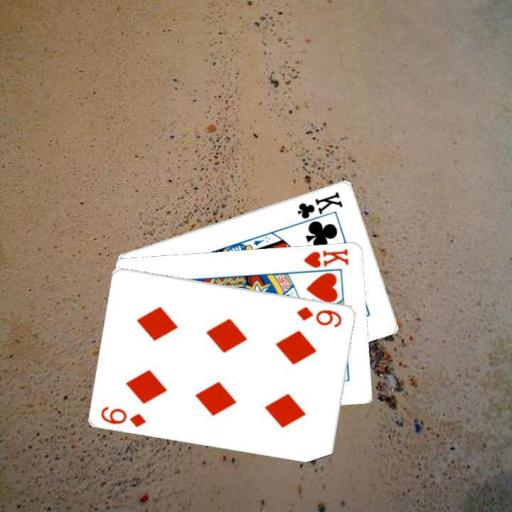6D: (294, 303, 344, 328), (98, 403, 148, 428)
KC: (293, 188, 344, 227)
KH: (301, 245, 351, 269)
